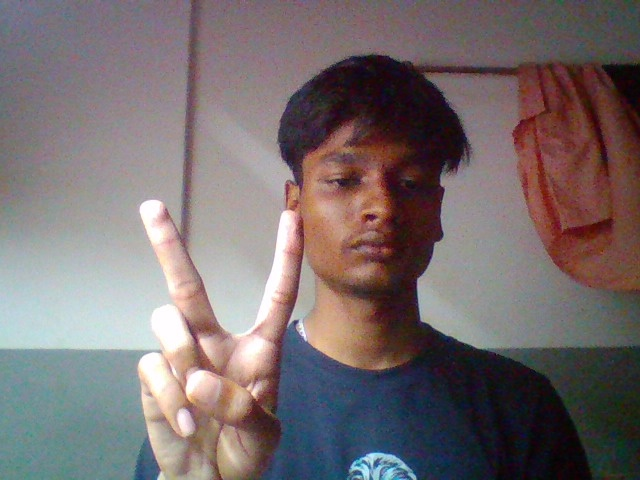V: (123, 194, 349, 480)
